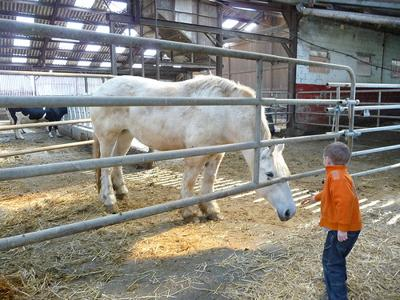person: (299, 141, 360, 299)
